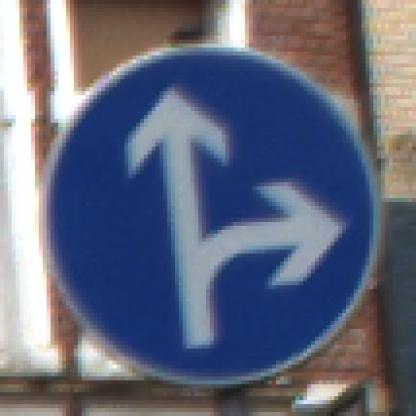Straight or Right: (40, 41, 382, 381)
